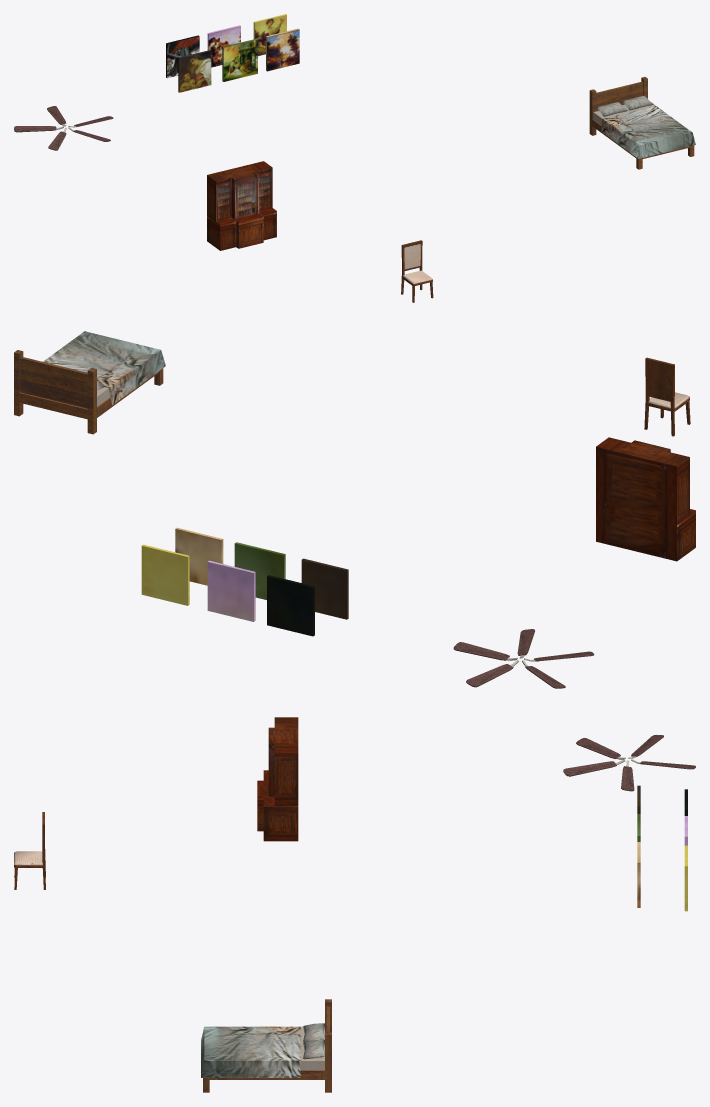
Rendered from room_Assets.glb.
3 renders of one model, top to bottom at view 1: azimuth 30°, elevation 25°; view 2: azimuth 150°, elevation 25°; view 3: azimuth 270°, elevation 25°, orthographic. The views are drawn at different scales.
Parts seen in each view (by area): view 1: bed_04, Bookcase_01, Painting_01, Painting, Painting_03, Chair_02, Ceiling_Fan_Blades, Painting_04, Painting_05, Painting_06; view 2: Bookcase_01, bed_04, Painting_06, Painting_05, Painting_04, Painting, Ceiling_Fan_Blades, Chair_02, Painting_03, Painting_01; view 3: bed_04, Bookcase_01, Ceiling_Fan_Blades, Chair_02.
Part boxes in pixels (x1=…): bed_04: x1=589, y1=76, x2=695, y2=169; Bookcase_01: x1=207, y1=161, x2=276, y2=250; Painting_01: x1=222, y1=38, x2=257, y2=81; Painting: x1=178, y1=50, x2=211, y2=92; Painting_03: x1=266, y1=28, x2=299, y2=71; Chair_02: x1=401, y1=240, x2=433, y2=302; Ceiling_Fan_Blades: x1=14, y1=106, x2=113, y2=150; Painting_04: x1=166, y1=35, x2=199, y2=78; Painting_05: x1=207, y1=25, x2=240, y2=67; Painting_06: x1=253, y1=14, x2=286, y2=55; Bookcase_01: x1=596, y1=437, x2=695, y2=561; bed_04: x1=14, y1=331, x2=165, y2=434; Painting_06: x1=141, y1=544, x2=189, y2=605; Painting_05: x1=207, y1=560, x2=255, y2=621; Painting_04: x1=267, y1=575, x2=314, y2=636; Painting: x1=301, y1=558, x2=348, y2=619; Ceiling_Fan_Blades: x1=453, y1=629, x2=594, y2=688; Chair_02: x1=644, y1=357, x2=690, y2=436; Painting_03: x1=175, y1=527, x2=223, y2=585; Painting_01: x1=234, y1=542, x2=285, y2=599; bed_04: x1=201, y1=999, x2=331, y2=1092; Bookcase_01: x1=257, y1=717, x2=298, y2=841; Ceiling_Fan_Blades: x1=563, y1=735, x2=695, y2=791; Chair_02: x1=14, y1=812, x2=45, y2=889.
Size of the model in its own units: 14.8 by 2.03 by 13.03.
5 materials, 5 textured.
